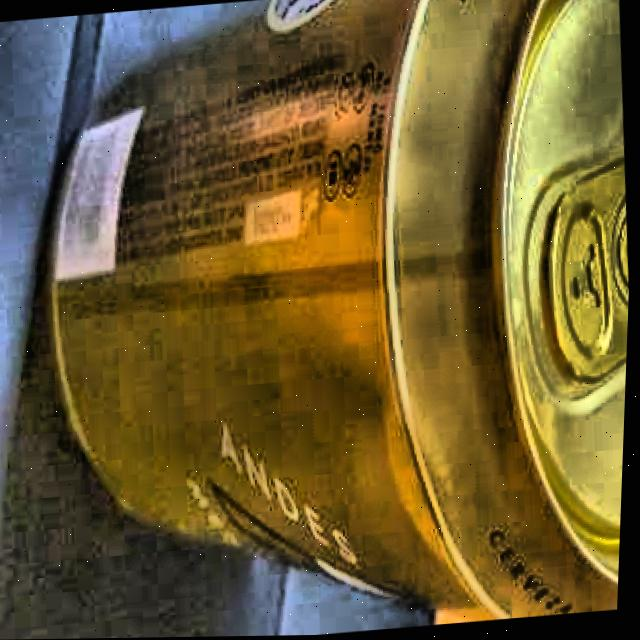metal: (1, 0, 640, 640)
